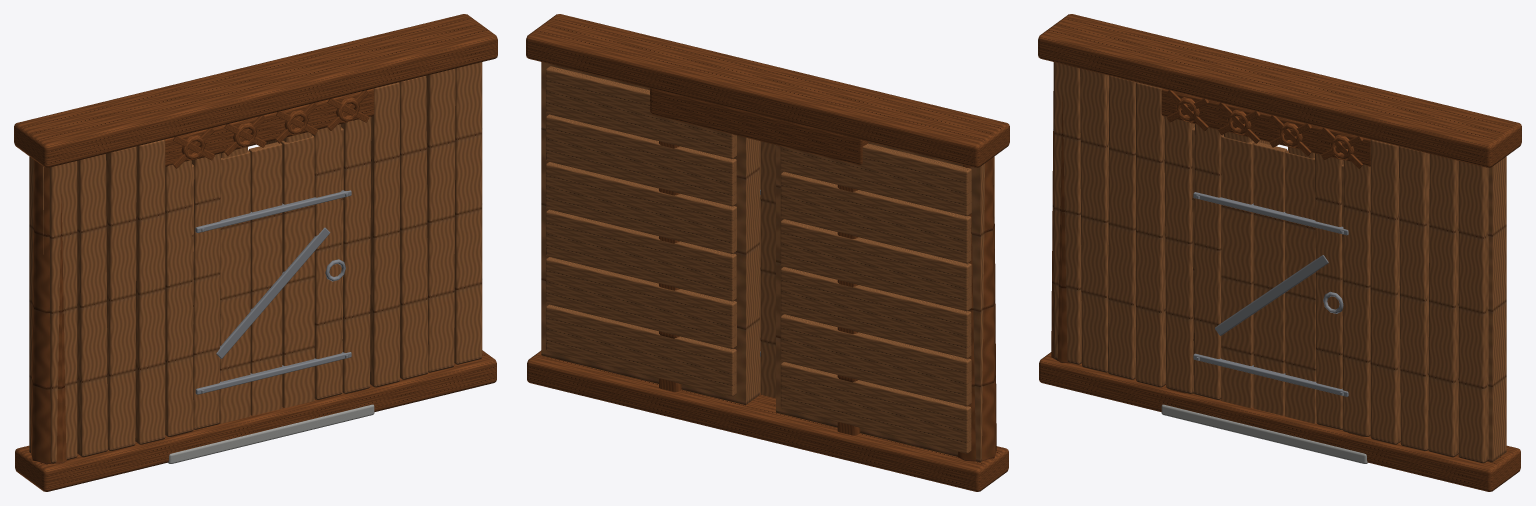
Rendered from viking-age-longhouse-and-longship-longhouse-door-bay-569bf563__30165.glb.
The picture shows the model from 3 angles, left to right: view 1: azimuth 30°, elevation 25°; view 2: azimuth 150°, elevation 25°; view 3: azimuth 330°, elevation 25°; orthographic projection.
Visible parts, largest first — view 1: longhouse-door-bay, door-left/pine, door-left/iron; view 2: longhouse-door-bay, door-left/pine; view 3: longhouse-door-bay, door-left/pine, door-left/iron.
Part boxes in pixels (x1,y1,x2,y2): longhouse-door-bay: [14, 14, 497, 491]; door-left/pine: [192, 127, 343, 430]; door-left/iron: [195, 190, 351, 394]; longhouse-door-bay: [526, 14, 1009, 491]; door-left/pine: [760, 141, 775, 398]; longhouse-door-bay: [1038, 14, 1521, 491]; door-left/pine: [1192, 127, 1343, 430]; door-left/iron: [1193, 192, 1348, 396].
Size of the model in its own units: 3 by 2.21 by 0.382.
Materials: 4 (3 with a texture image).
